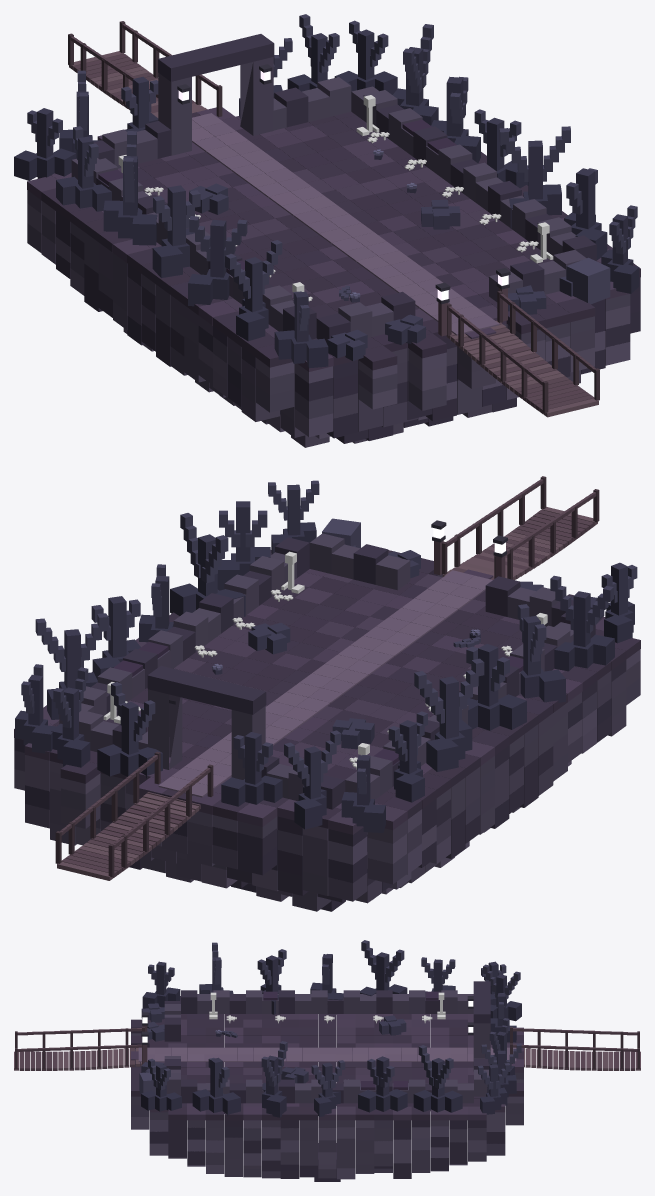
The model's file is room_empty_polluted.glb.
3 views of the same model, one above another, from view 1: azimuth 30°, elevation 25°; view 2: azimuth 150°, elevation 25°; view 3: azimuth 270°, elevation 25° (orthographic). The views are drawn at different scales.
Visible parts, largest first — view 1: room_empty_blocks, tree4_(0, 0).001, tree0_(0, 0).002, tree5_(0, 0).001, tree2_(0, 0).001, tree2_(0, 0).002, tree0_(0, 0).003, tree4_(0, 0).002, tree0_(0, 0).001, tree5_(0, 0).002, tree3_(0, 0).001, tree1_(0, 0).003 (+12 smaller); view 2: room_empty_blocks, tree2_(0, 0).002, tree2_(0, 0).001, tree0_(0, 0).002, tree5_(0, 0).001, tree5_(0, 0).003, tree0_(0, 0).004, tree2_(0, 0).003, tree5_(0, 0).002, tree4_(0, 0).001, tree3_(0, 0).001, tree2_(0, 0).004 (+10 smaller); view 3: room_empty_blocks, tree5_(0, 0).002, tree3_(0, 0).002, tree3_(0, 0).001, tree5_(0, 0).001, tree2_(0, 0).002, tree1_(0, 0).001, tree1_(0, 0).002, tree1_(0, 0).003, tree0_(0, 0).001, tree2_(0, 0).003, tree4_(0, 0).001 (+9 smaller).
Boxes of the visible parts, bbox=[...] form: room_empty_blocks: bbox=[27, 21, 640, 447]; tree4_(0, 0).001: bbox=[188, 216, 247, 306]; tree0_(0, 0).002: bbox=[152, 185, 200, 277]; tree5_(0, 0).001: bbox=[499, 126, 570, 228]; tree2_(0, 0).001: bbox=[225, 240, 282, 341]; tree2_(0, 0).002: bbox=[103, 131, 157, 245]; tree0_(0, 0).003: bbox=[14, 108, 76, 180]; tree4_(0, 0).002: bbox=[56, 126, 111, 211]; tree0_(0, 0).001: bbox=[274, 291, 328, 368]; tree5_(0, 0).002: bbox=[393, 24, 438, 125]; tree3_(0, 0).001: bbox=[564, 168, 607, 260]; tree1_(0, 0).003: bbox=[334, 20, 397, 94]; room_empty_blocks: bbox=[14, 476, 640, 911]; tree2_(0, 0).002: bbox=[414, 658, 484, 771]; tree2_(0, 0).001: bbox=[550, 575, 614, 671]; tree0_(0, 0).002: bbox=[466, 644, 526, 730]; tree5_(0, 0).001: bbox=[170, 513, 245, 616]; tree5_(0, 0).003: bbox=[97, 682, 162, 778]; tree0_(0, 0).004: bbox=[221, 732, 282, 806]; tree2_(0, 0).003: bbox=[284, 730, 340, 829]; tree5_(0, 0).002: bbox=[35, 613, 107, 719]; tree4_(0, 0).001: bbox=[517, 604, 565, 702]; tree3_(0, 0).001: bbox=[217, 501, 270, 590]; tree2_(0, 0).004: bbox=[51, 667, 90, 767]; room_empty_blocks: bbox=[14, 981, 640, 1181]; tree5_(0, 0).002: bbox=[413, 1045, 462, 1112]; tree3_(0, 0).002: bbox=[358, 1056, 407, 1112]; tree3_(0, 0).001: bbox=[192, 1057, 240, 1116]; tree5_(0, 0).001: bbox=[261, 1041, 287, 1117]; tree2_(0, 0).002: bbox=[360, 940, 407, 995]; tree1_(0, 0).001: bbox=[141, 1058, 181, 1111]; tree1_(0, 0).002: bbox=[311, 1060, 345, 1116]; tree1_(0, 0).003: bbox=[478, 1063, 510, 1114]; tree0_(0, 0).001: bbox=[142, 961, 180, 1008]; tree2_(0, 0).003: bbox=[483, 964, 521, 1021]; tree4_(0, 0).001: bbox=[257, 949, 286, 1014].
Bounding box in the file's own units: 17.93 × 12.1 × 38.5.
